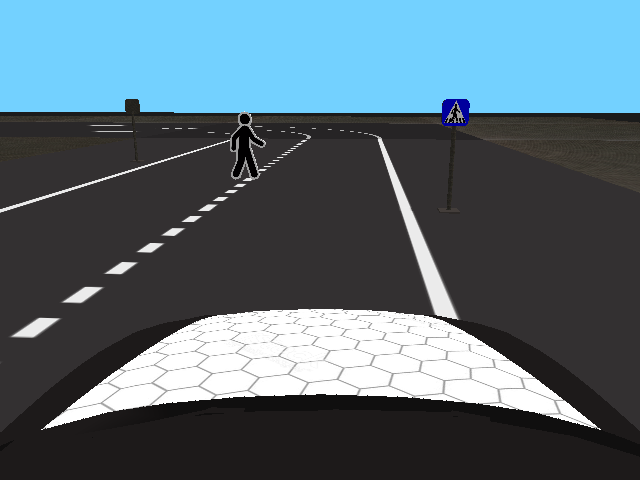pedestrian: (228, 113, 266, 181)
pedestrian_cross: (441, 99, 470, 127)
